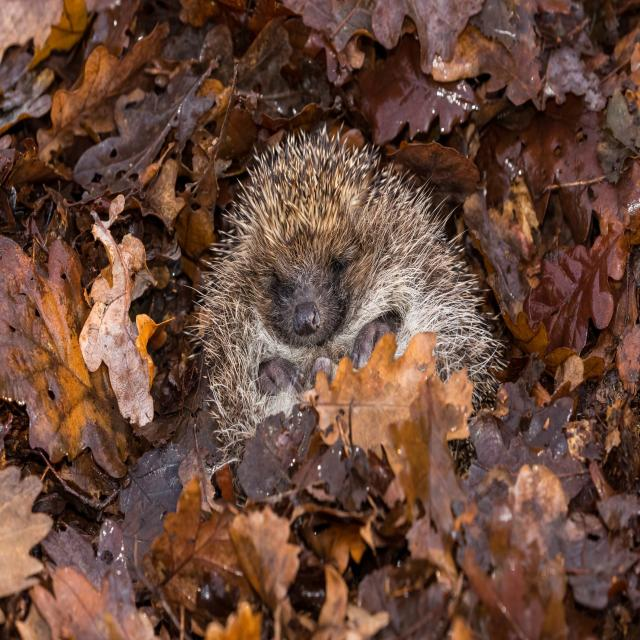Hedgehog: (192, 103, 503, 524)
